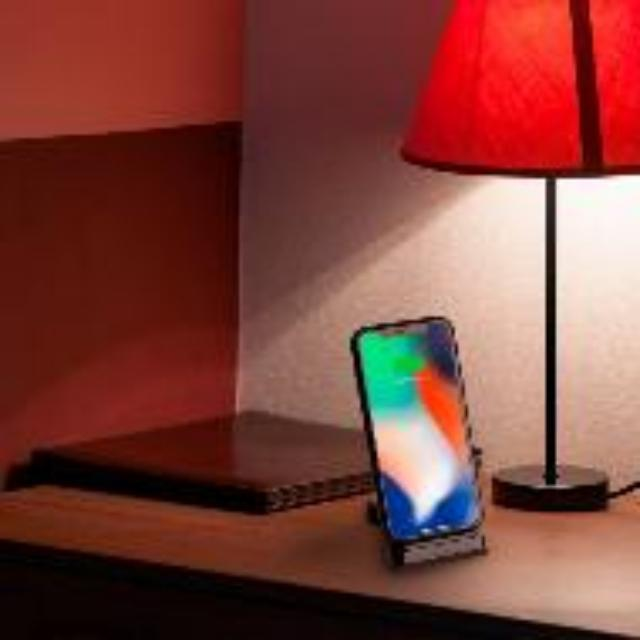Phone: (351, 316, 485, 540)
